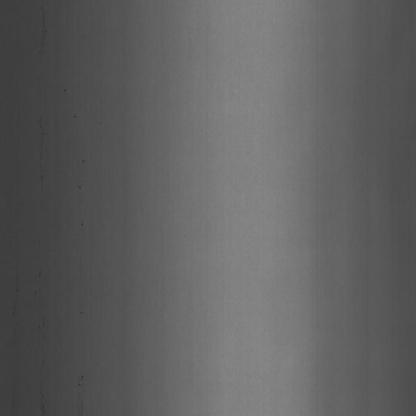silk_spot: (25, 115, 62, 205)
